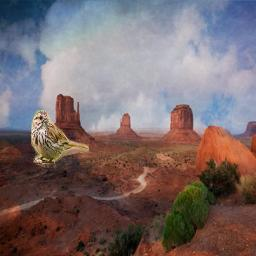Sparrow: (31, 110, 89, 168)
